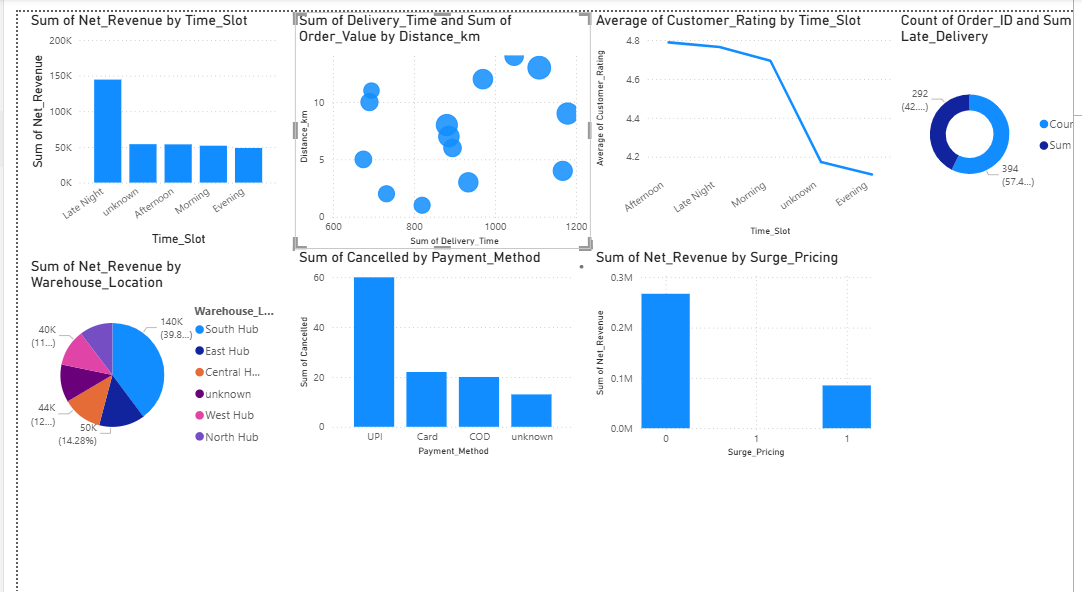

Layout of this report page (visuals, bound fields, positions):
{"tool":"powerbi","page":{"name":"Page 1","canvas":[1280,720],"ordinal":0},"visuals":[{"type":"columnChart","fields":{"Y":["Sum(zepto_cleaned.Net_Revenue)"],"Category":["zepto_cleaned.Time_Slot"]},"box":[10.1,0,300.9,280.6],"z":0},{"type":"pieChart","fields":{"Category":["zepto_cleaned.Warehouse_Location"],"Y":["Sum(zepto_cleaned.Net_Revenue)"]},"box":[10.1,290.8,300.9,238.4],"z":1},{"type":"scatterChart","fields":{"Size":["Sum(zepto_cleaned.Order_Value)"],"X":["Sum(zepto_cleaned.Delivery_Time)"],"Y":["zepto_cleaned.Distance_km"]},"box":[326.3,0,349.9,280.6],"z":2},{"type":"donutChart","fields":{"Y":["CountNonNull(zepto_cleaned.Order_ID)","Sum(zepto_cleaned.Late_Delivery)"]},"box":[1036.3,0,243.4,250.2],"z":3},{"type":"lineChart","fields":{"Y":["Avg(zepto_cleaned.Customer_Rating)"],"Category":["zepto_cleaned.Time_Slot"]},"box":[676.2,0,360.1,268.8],"z":4},{"type":"columnChart","fields":{"Category":["zepto_cleaned.Payment_Method"],"Y":["Sum(zepto_cleaned.Cancelled)"]},"box":[326.3,280.6,334.7,248.5],"z":5},{"type":"columnChart","fields":{"Category":["zepto_cleaned.Surge_Pricing"],"Y":["Sum(zepto_cleaned.Net_Revenue)"]},"box":[676.2,280.6,334.7,250.2],"z":6}]}

Visuals, with their boxes in screenshot pixels (x1, y1, x2, y2), scaled from the page's 1280x720 canvas onto the 1082x592 screenshot:
columnChart - Sum(zepto_cleaned.Net_Revenue) x zepto_cleaned.Time_Slot: 9 0 263 231
pieChart - zepto_cleaned.Warehouse_Location x Sum(zepto_cleaned.Net_Revenue): 9 239 263 435
scatterChart - Sum(zepto_cleaned.Order_Value) x Sum(zepto_cleaned.Delivery_Time): 276 0 572 231
donutChart - CountNonNull(zepto_cleaned.Order_ID) x Sum(zepto_cleaned.Late_Delivery): 876 0 1081 206
lineChart - Avg(zepto_cleaned.Customer_Rating) x zepto_cleaned.Time_Slot: 572 0 876 221
columnChart - zepto_cleaned.Payment_Method x Sum(zepto_cleaned.Cancelled): 276 231 559 435
columnChart - zepto_cleaned.Surge_Pricing x Sum(zepto_cleaned.Net_Revenue): 572 231 855 436
